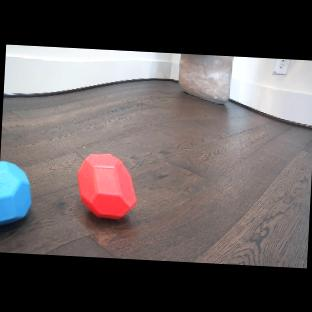V5_BLUE: (0, 159, 34, 227)
V5_RED: (75, 152, 139, 220)
